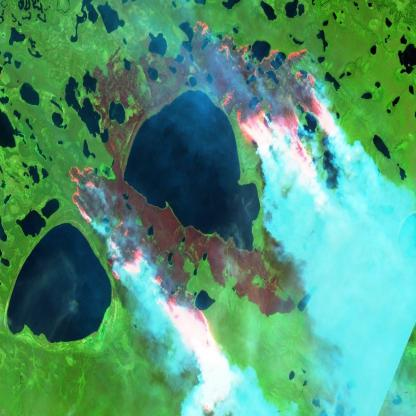fire: (66, 0, 349, 414)
